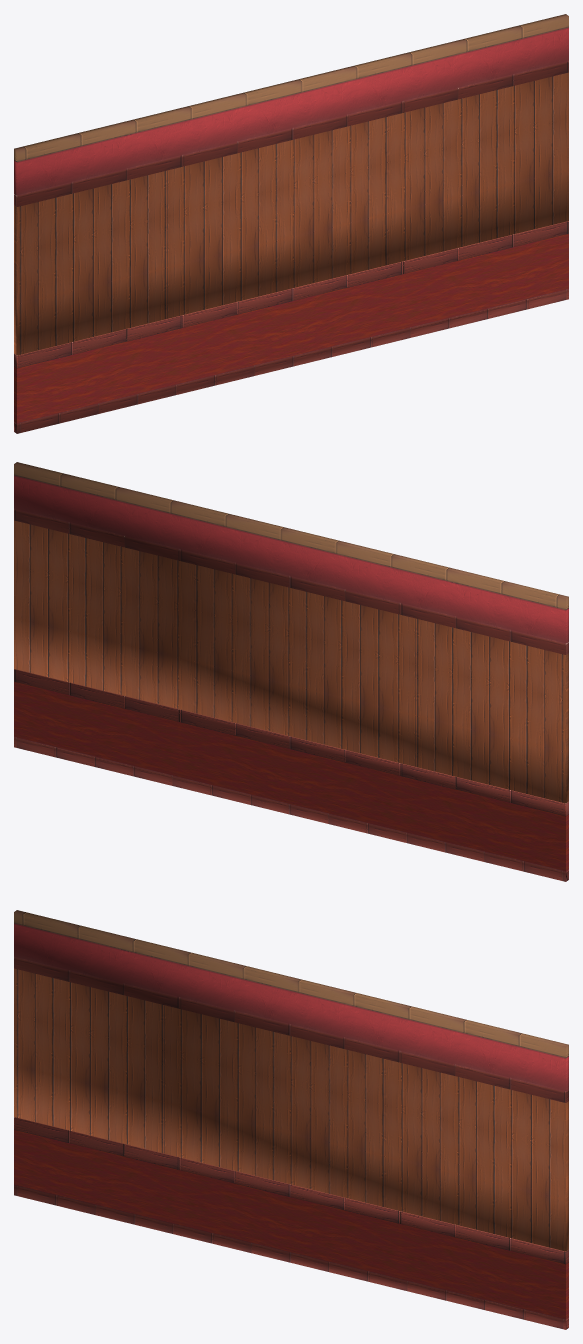
Rendered from polygonalmind-lunar-year-046.glb.
3 renders of one model, top to bottom at view 1: azimuth 30°, elevation 25°; view 2: azimuth 150°, elevation 25°; view 3: azimuth 330°, elevation 25°, orthographic.
Visible parts, largest first — view 1: RoomWall01; view 2: RoomWall01; view 3: RoomWall01.
Boxes of the visible parts, <box> form: RoomWall01: <box>14,14,568,433</box>; RoomWall01: <box>14,462,568,881</box>; RoomWall01: <box>14,910,568,1329</box>.
Size of the model in its own units: 16.02 by 7.85 by 0.15.
2 materials, 2 textured.
